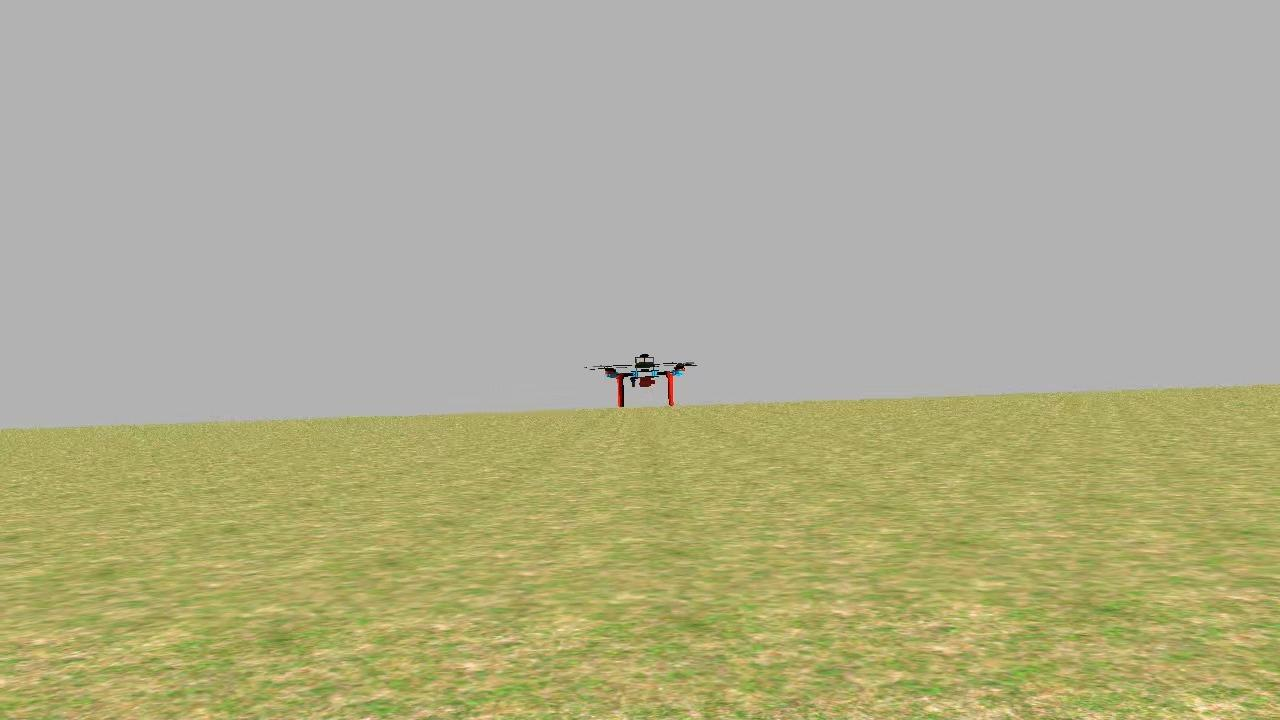UAV: (588, 342, 698, 414)
